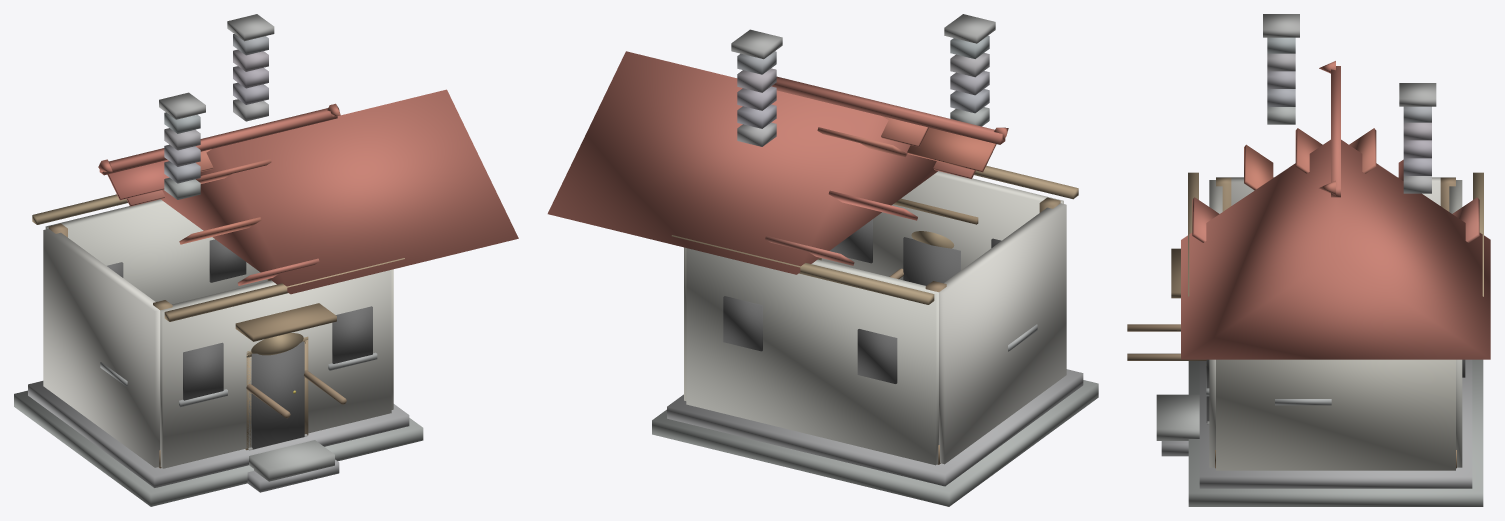
Rendered from building_farmhouse.glb.
3 views of the same model, side by side, from view 1: azimuth 30°, elevation 25°; view 2: azimuth 150°, elevation 25°; view 3: azimuth 270°, elevation 25° (orthographic). The views are drawn at different scales.
Parts seen in each view (by area): view 1: roof_body, front, side_-1, back, foundation0, foundation1, front_open0, ridge, step1, porch_canopy, front_open1, front_open2 (+18 smaller); view 2: roof_body, back, side_-1, foundation0, front, foundation1, ridge, tile_-1_1, front_open0, eave_-1, back_open0, back_open1 (+18 smaller); view 3: roof_body, side_1, foundation0, foundation1, step1, ridge, front, back, tile_-1_1, chim_0.8_cap, chim_-0.7_cap, side_-1 (+20 smaller).
Part boxes in pixels (<box>): roof_body: <box>161,89,518,294</box>; front: <box>160,270,391,468</box>; side_-1: <box>43,229,160,467</box>; back: <box>45,199,267,304</box>; foundation0: <box>14,390,423,506</box>; foundation1: <box>28,381,409,487</box>; front_open0: <box>251,341,304,449</box>; ridge: <box>99,108,337,175</box>; step1: <box>249,440,334,481</box>; porch_canopy: <box>235,303,336,341</box>; front_open1: <box>183,342,223,400</box>; front_open2: <box>332,306,372,363</box>; roof_body: <box>547,51,937,274</box>; back: <box>686,248,938,465</box>; side_-1: <box>939,203,1066,464</box>; foundation0: <box>652,380,1098,506</box>; front: <box>821,171,1063,280</box>; foundation1: <box>667,369,1083,486</box>; ridge: <box>771,76,1005,144</box>; tile_-1_1: <box>907,127,996,172</box>; front_open0: <box>903,237,960,285</box>; eave_-1: <box>671,235,934,304</box>; back_open0: <box>857,329,897,383</box>; back_open1: <box>723,296,762,351</box>; roof_body: <box>1181,139,1490,359</box>; side_1: <box>1216,359,1455,470</box>; foundation0: <box>1188,359,1483,506</box>; foundation1: <box>1199,359,1472,488</box>; step1: <box>1156,394,1199,440</box>; ridge: <box>1331,66,1340,197</box>; front: <box>1209,180,1222,467</box>; back: <box>1449,180,1462,467</box>; tile_-1_1: <box>1244,144,1273,190</box>; chim_0.8_cap: <box>1399,83,1436,106</box>; chim_-0.7_cap: <box>1263,14,1299,37</box>; side_-1: <box>1216,177,1455,205</box>.
Bounding box in the file's own units: 4.15 × 3.86 × 3.33.
